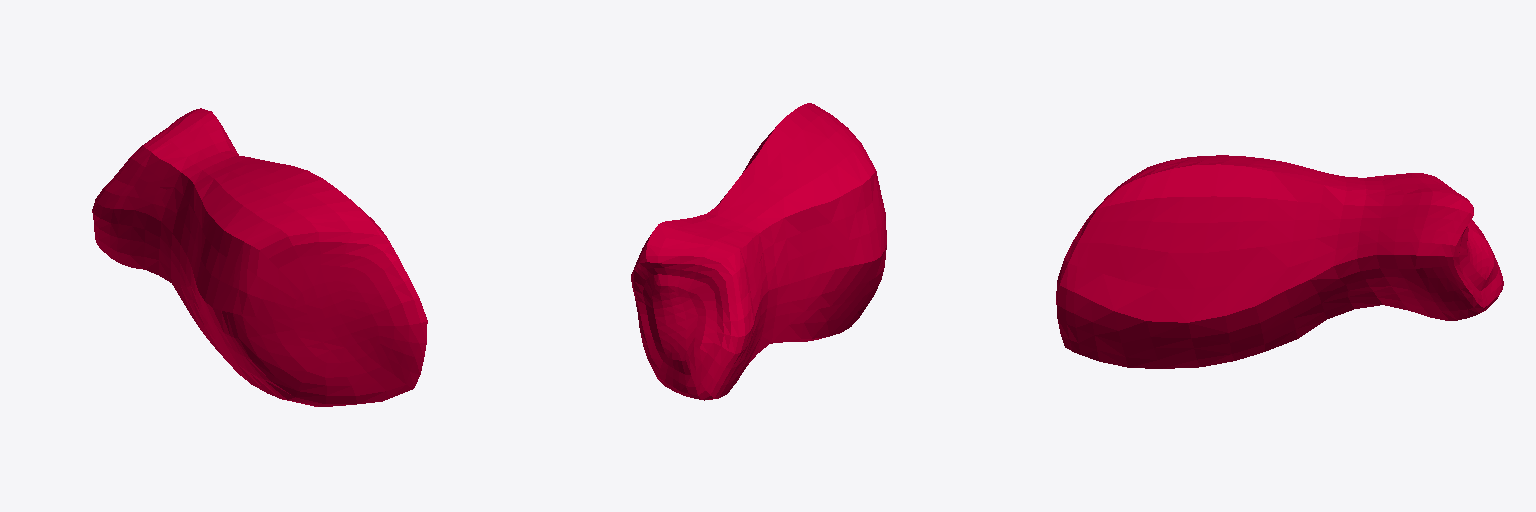
File: L_U_Leg.obj
The picture shows the model from 3 angles: view 1: azimuth 30°, elevation 25°; view 2: azimuth 150°, elevation 25°; view 3: azimuth 270°, elevation 25°; orthographic projection.
Parts seen in each view (by area): view 1: L_U_Leg_Alpha_Surface.006; view 2: L_U_Leg_Alpha_Surface.006; view 3: L_U_Leg_Alpha_Surface.006.
Part boxes in pixels (x1,y1,x2,y2): L_U_Leg_Alpha_Surface.006: (92, 108, 427, 406); L_U_Leg_Alpha_Surface.006: (631, 103, 886, 400); L_U_Leg_Alpha_Surface.006: (1056, 155, 1503, 368).
Size of the model in its own units: 0.184 by 0.2293 by 0.4534.